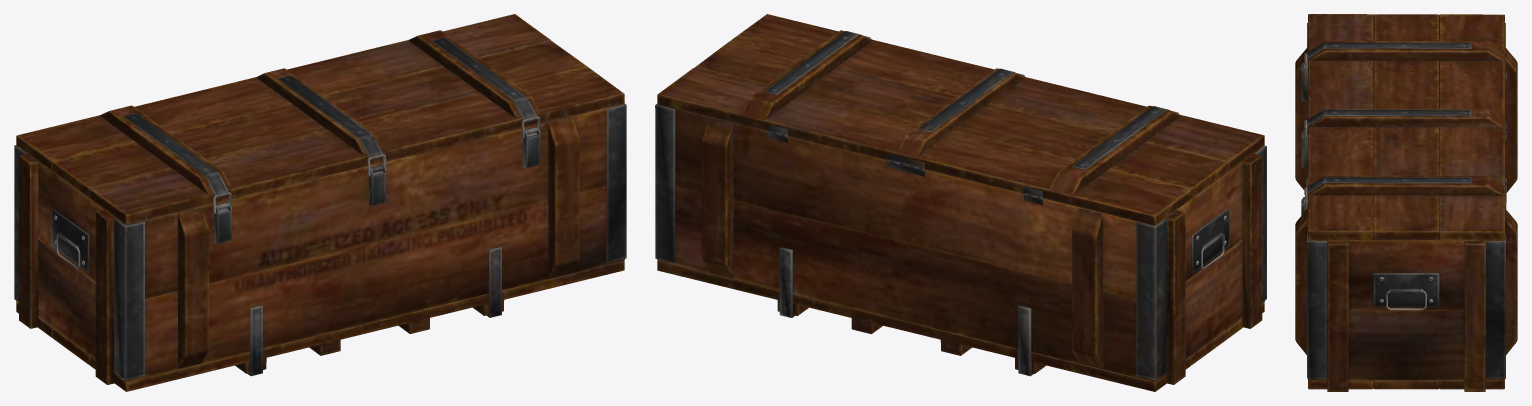
File: wooden_military_crate.glb
The picture shows the model from 3 angles, left to right: view 1: azimuth 30°, elevation 25°; view 2: azimuth 150°, elevation 25°; view 3: azimuth 270°, elevation 25°; orthographic projection. The views are drawn at different scales.
Parts seen in each view (by area): view 1: wooden_military_crate, wooden_military_crate_lid; view 2: wooden_military_crate, wooden_military_crate_lid; view 3: wooden_military_crate_lid, wooden_military_crate.
Part boxes in pixels (box(x1,y1,x2,y2)): wooden_military_crate: box(14, 103, 626, 391); wooden_military_crate_lid: box(16, 14, 624, 224); wooden_military_crate: box(655, 104, 1266, 391); wooden_military_crate_lid: box(657, 14, 1264, 225); wooden_military_crate_lid: box(1304, 14, 1506, 240); wooden_military_crate: box(1295, 23, 1517, 391).
Bounding box in the file's own units: 1.24 × 0.4644 × 0.5198.
Materials: 1 (1 with a texture image).
